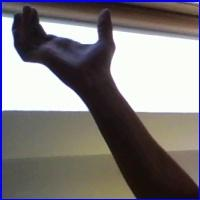space: (11, 3, 132, 85)
